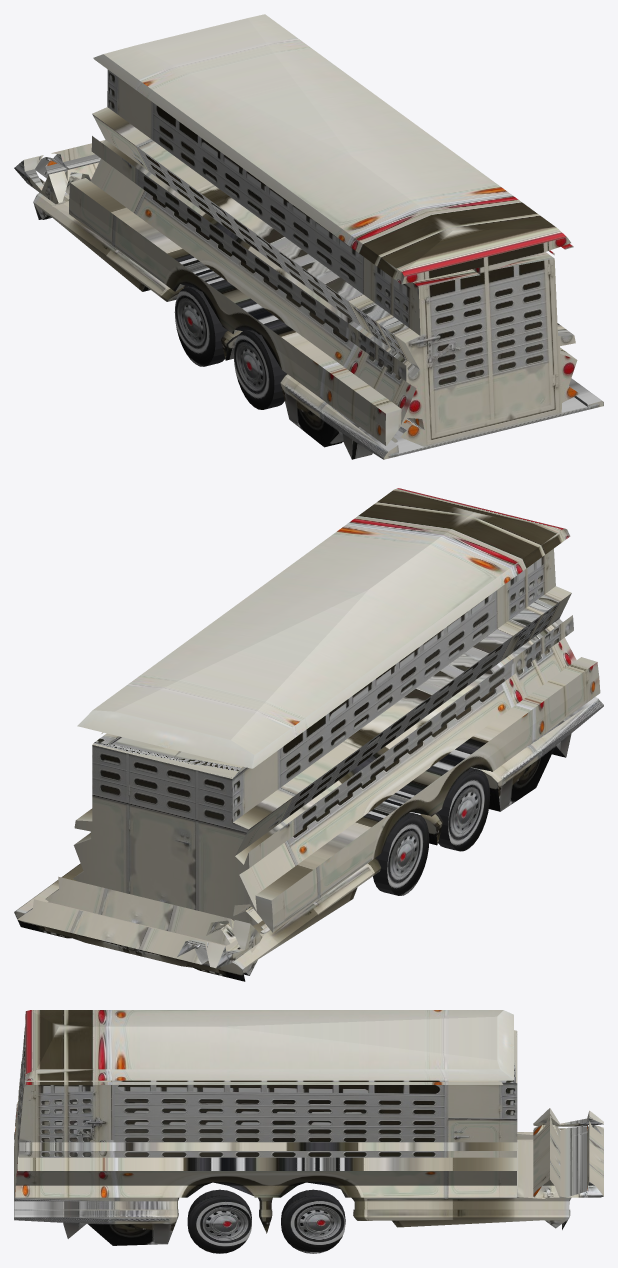
Rendered from livestock_trailer.glb.
3 renders of one model, top to bottom at view 1: azimuth 30°, elevation 25°; view 2: azimuth 150°, elevation 25°; view 3: azimuth 270°, elevation 25°, orthographic. The views are drawn at different scales.
Parts seen in each view (by area): view 1: livestock_trailer, wheel_BL, wheel_FL; view 2: livestock_trailer, wheel_FL, wheel_BL; view 3: livestock_trailer, wheel_FR, wheel_BR.
Part boxes in pixels (x1,y1,x2,y2): livestock_trailer: [14, 14, 603, 459]; wheel_BL: [233, 330, 286, 409]; wheel_FL: [174, 287, 227, 366]; livestock_trailer: [14, 488, 603, 981]; wheel_FL: [373, 812, 429, 895]; wheel_BL: [437, 767, 490, 851]; livestock_trailer: [14, 1010, 603, 1245]; wheel_FR: [281, 1189, 345, 1253]; wheel_BR: [187, 1189, 251, 1253].
Bounding box in the file's own units: 2.39 × 2.35 × 6.99.
Materials: 3 (1 with a texture image).
